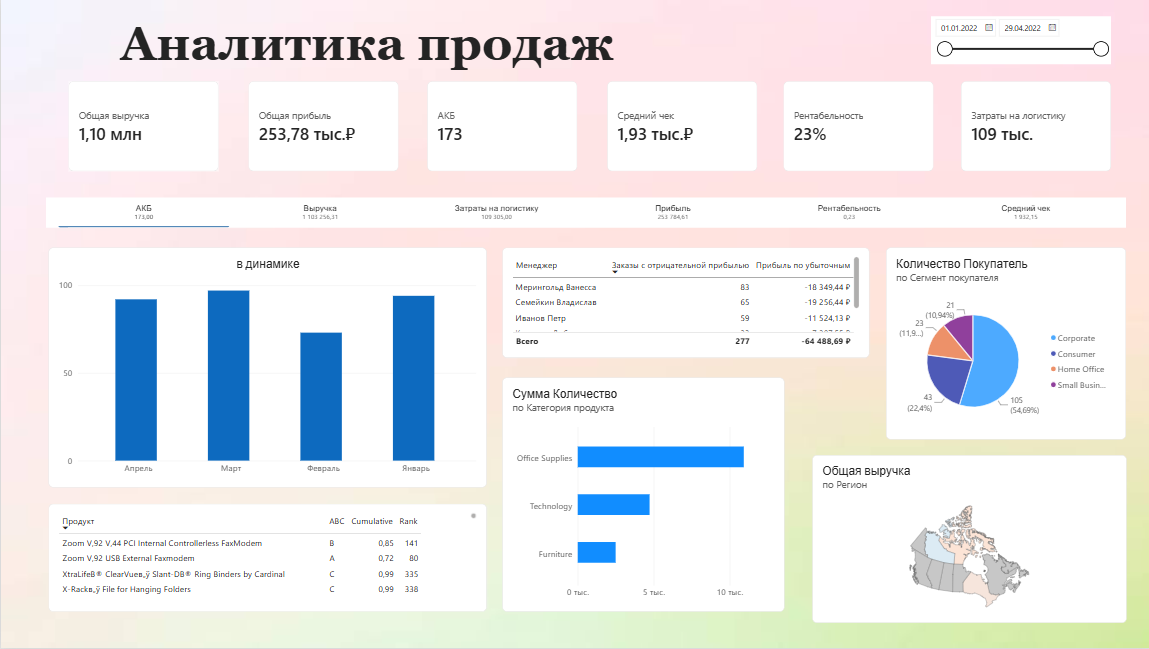

The page's visual inventory and layout, read from the dashboard file:
{"tool":"powerbi","page":{"name":"Страница 1","canvas":[1920,1080],"ordinal":0},"visuals":[{"type":"image","box":[0,0,1920,1080],"z":0},{"type":"cardVisual","title":"Выручка","fields":{"Data":["Продажи.Общая выручка"]},"box":[112.5,135,250,150],"z":4000},{"type":"cardVisual","fields":{"Data":["Продажи.Общая прибыль"]},"box":[412.5,135,250,150],"z":5000},{"type":"cardVisual","fields":{"Data":["Продажи.АКБ"]},"box":[710,135,250,150],"z":6000},{"type":"cardVisual","fields":{"Data":["Продажи.Средний чек"]},"box":[1010,135,250,150],"z":7000},{"type":"cardVisual","fields":{"Data":["Продажи.Рентабельность"]},"box":[1305,135,250,150],"z":8000},{"type":"cardVisual","fields":{"Data":["Продажи.Затраты на логистику"]},"box":[1600,135,250,150],"z":9000},{"type":"clusteredColumnChart","title":"в динамике","fields":{"Category":["Календарь.Месяц","Календарь.Квартал","Календарь.Год"],"Y":["Показатели.Выбранный показатель"]},"box":[80,412,730,400],"z":11000},{"type":"advancedSlicerVisual","fields":{"Label":["Показатели.Выбранный показатель"],"Values":["Показатели.Показатель"]},"box":[75,330,1800,50],"z":12000},{"type":"pieChart","fields":{"Category":["СПР_покупатели.Сегмент покупателя"],"Y":["CountNonNull(СПР_покупатели.Покупатель)"]},"box":[1476,412,400,320],"z":13000},{"type":"clusteredBarChart","fields":{"Category":["СПР_продукты.Категория продукта","СПР_продукты.Подкатегория продукта","СПР_продукты.Продукт"],"Y":["Sum(Продажи.Количество)"]},"box":[836,630,470,390],"z":14000},{"type":"shapeMap","fields":{"Category":["СПР_Менеджеры.Регион"],"Value":["Продажи.Общая выручка"]},"box":[1352,758,524,280],"z":15000},{"type":"tableEx","fields":{"Values":["Продажи.Продукт","СПР_продукты.ABC","СПР_продукты.Cumulative","СПР_продукты.Rank"]},"box":[80,840,730,180],"z":16000},{"type":"tableEx","fields":{"Values":["СПР_Менеджеры.Менеджер","Продажи.Заказы с отрицательной прибылью","Продажи.Прибыль по убыточным"]},"box":[836,412,612,184],"z":17000},{"type":"slicer","fields":{"Values":["Календарь.Date"]},"box":[1550,27.5,300,78],"z":17001},{"type":"textbox","box":[197.5,27.5,1180,107.5],"z":17002}]}

Visuals, with their boxes in screenshot pixels (x1, y1, x2, y2), scaled from the page's 1920x1080 canvas onto the 1149x649 screenshot:
image: locate(0, 0, 1148, 648)
"Выручка" cardVisual: locate(67, 81, 217, 171)
cardVisual - Продажи.Общая прибыль: locate(247, 81, 396, 171)
cardVisual - Продажи.АКБ: locate(425, 81, 574, 171)
cardVisual - Продажи.Средний чек: locate(604, 81, 754, 171)
cardVisual - Продажи.Рентабельность: locate(781, 81, 931, 171)
cardVisual - Продажи.Затраты на логистику: locate(957, 81, 1107, 171)
"в динамике" clusteredColumnChart: locate(48, 248, 485, 488)
advancedSlicerVisual - Показатели.Выбранный показатель x Показатели.Показатель: locate(45, 198, 1122, 228)
pieChart - СПР_покупатели.Сегмент покупателя x CountNonNull(СПР_покупатели.Покупатель): locate(883, 248, 1123, 440)
clusteredBarChart - СПР_продукты.Категория продукта x СПР_продукты.Подкатегория продукта: locate(500, 379, 782, 613)
shapeMap - СПР_Менеджеры.Регион x Продажи.Общая выручка: locate(809, 456, 1123, 624)
tableEx - Продажи.Продукт x СПР_продукты.ABC: locate(48, 505, 485, 613)
tableEx - СПР_Менеджеры.Менеджер x Продажи.Заказы с отрицательной прибылью: locate(500, 248, 867, 358)
slicer - Календарь.Date: locate(928, 17, 1107, 63)
textbox: locate(118, 17, 824, 81)
